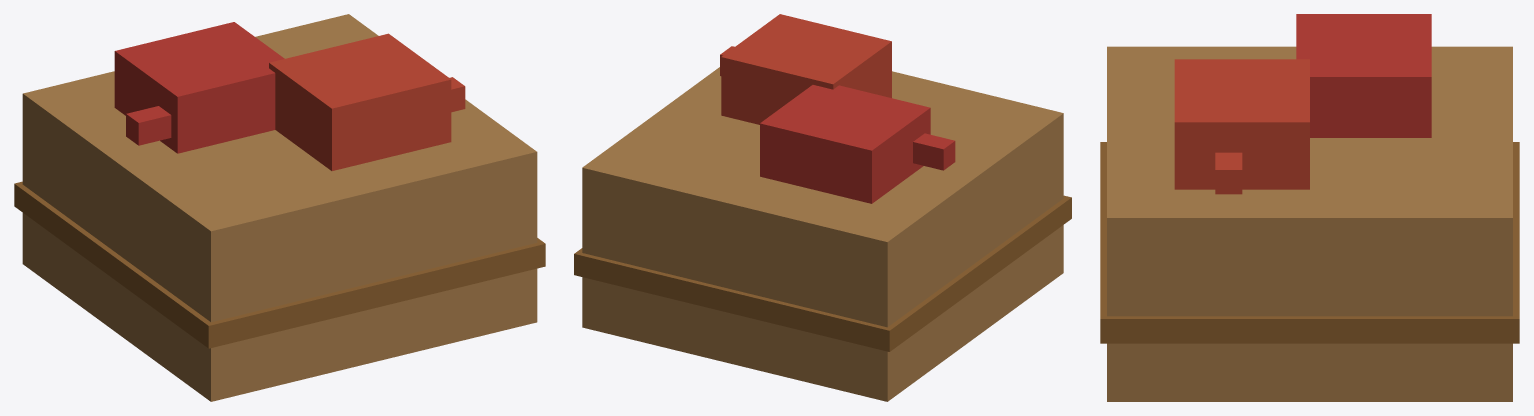
Rendered from cp-crab-basket.glb.
The picture shows the model from 3 angles, left to right: view 1: azimuth 30°, elevation 25°; view 2: azimuth 150°, elevation 25°; view 3: azimuth 270°, elevation 25°; orthographic projection. The views are drawn at different scales.
Parts seen in each view (by area): view 1: box-prop; view 2: box-prop; view 3: box-prop.
Boxes of the visible parts, x1,y1,x2,y2 form: box-prop: (14,14,545,401); box-prop: (574,14,1071,401); box-prop: (1100,14,1519,401).
Bounding box in the file's own units: 0.62 × 0.41 × 0.62.
